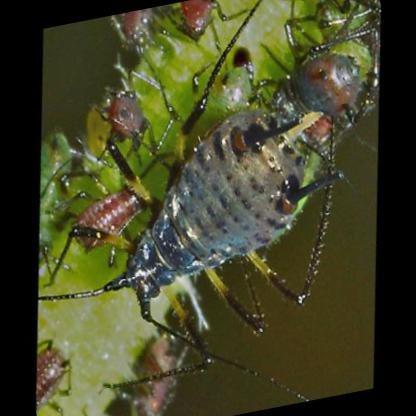uroleucon compositae: (92, 95, 341, 329)
